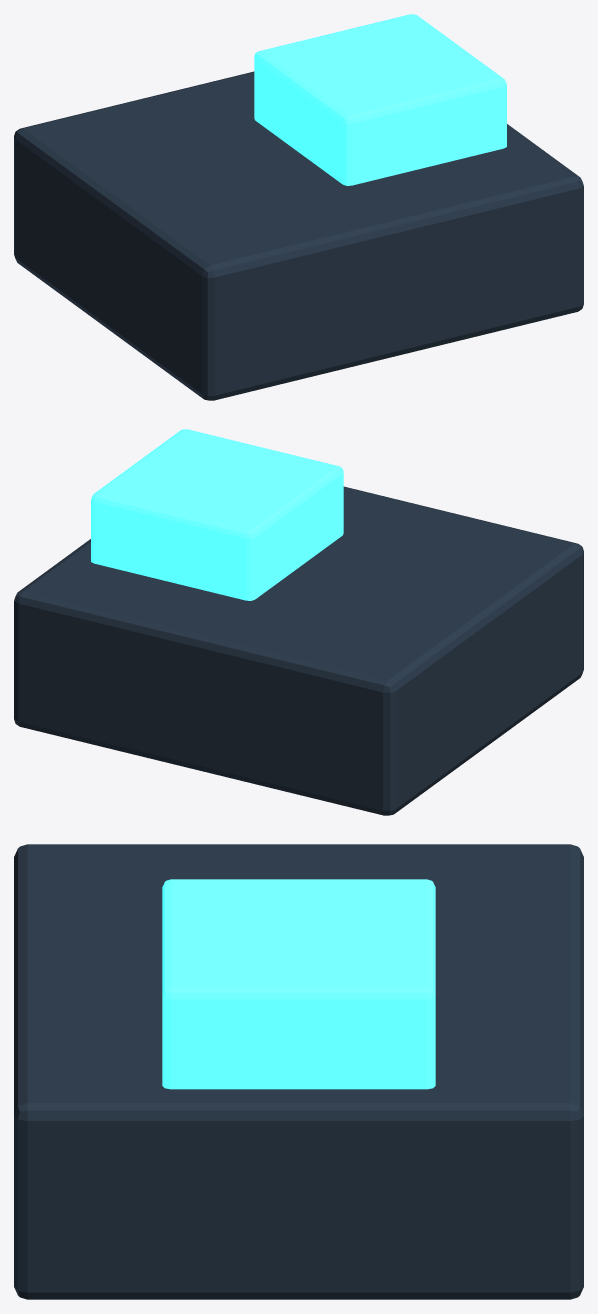
The model's file is bridge-crane-trolley-v4-low.glb.
The picture shows the model from 3 angles, top to bottom: view 1: azimuth 30°, elevation 25°; view 2: azimuth 150°, elevation 25°; view 3: azimuth 270°, elevation 25°; orthographic projection. The views are drawn at different scales.
Parts seen in each view (by area): view 1: bc-trolley.001, bc-trolley-motor.001; view 2: bc-trolley.001, bc-trolley-motor.001; view 3: bc-trolley.001, bc-trolley-motor.001.
Part boxes in pixels (box(x1,y1,x2,y2)): bc-trolley.001: box(14, 71, 583, 400); bc-trolley-motor.001: box(254, 14, 506, 185); bc-trolley.001: box(14, 486, 583, 815); bc-trolley-motor.001: box(91, 429, 343, 600); bc-trolley.001: box(14, 844, 583, 1299); bc-trolley-motor.001: box(162, 879, 435, 1089).
Size of the model in its own units: 2.8 by 1.43 by 2.5.
